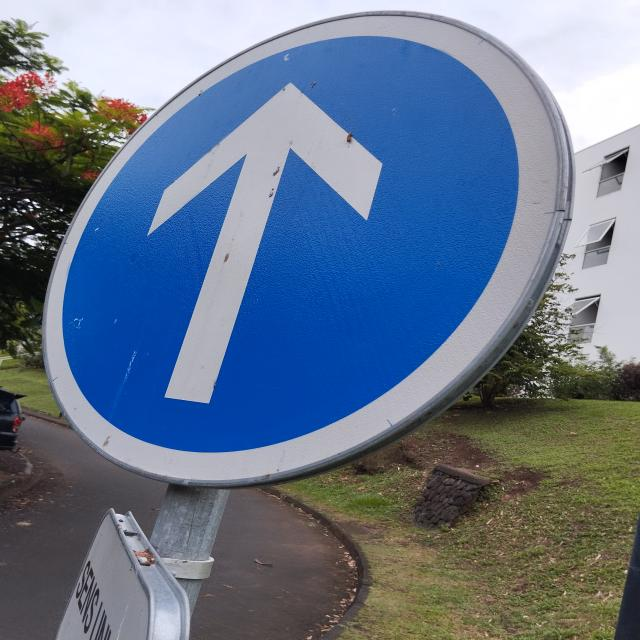Sens-Unique: (42, 8, 575, 490)
